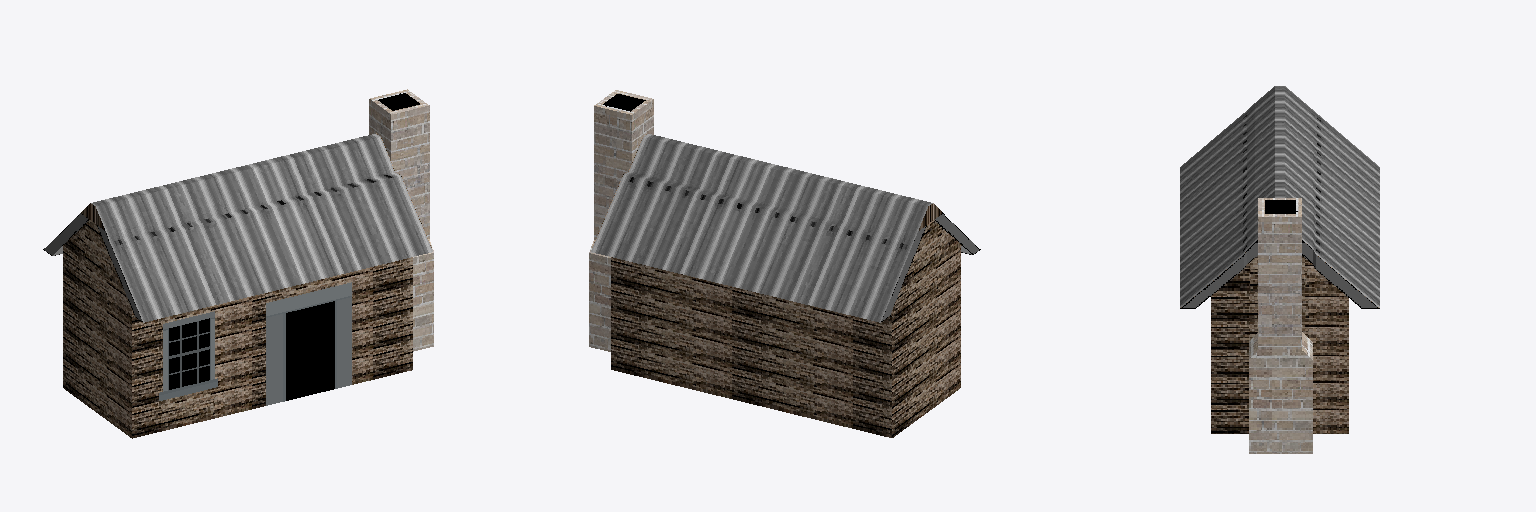
3 renders of one model, left to right at view 1: azimuth 30°, elevation 25°; view 2: azimuth 150°, elevation 25°; view 3: azimuth 270°, elevation 25°, orthographic.
Visible parts, largest first — view 1: mesh01; view 2: mesh01; view 3: mesh01.
Part boxes in pixels (x1,y1,x2,y2): mesh01: (43,89,433,438); mesh01: (589,90,980,437); mesh01: (1180,86,1379,453).
Bounding box in the file's own units: 915 × 637 × 486.
1 materials, 1 textured.